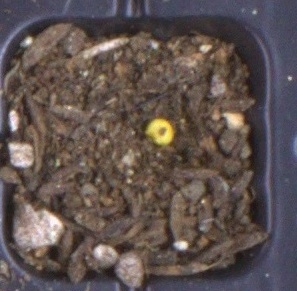chilli seed: (144, 118, 174, 146)
